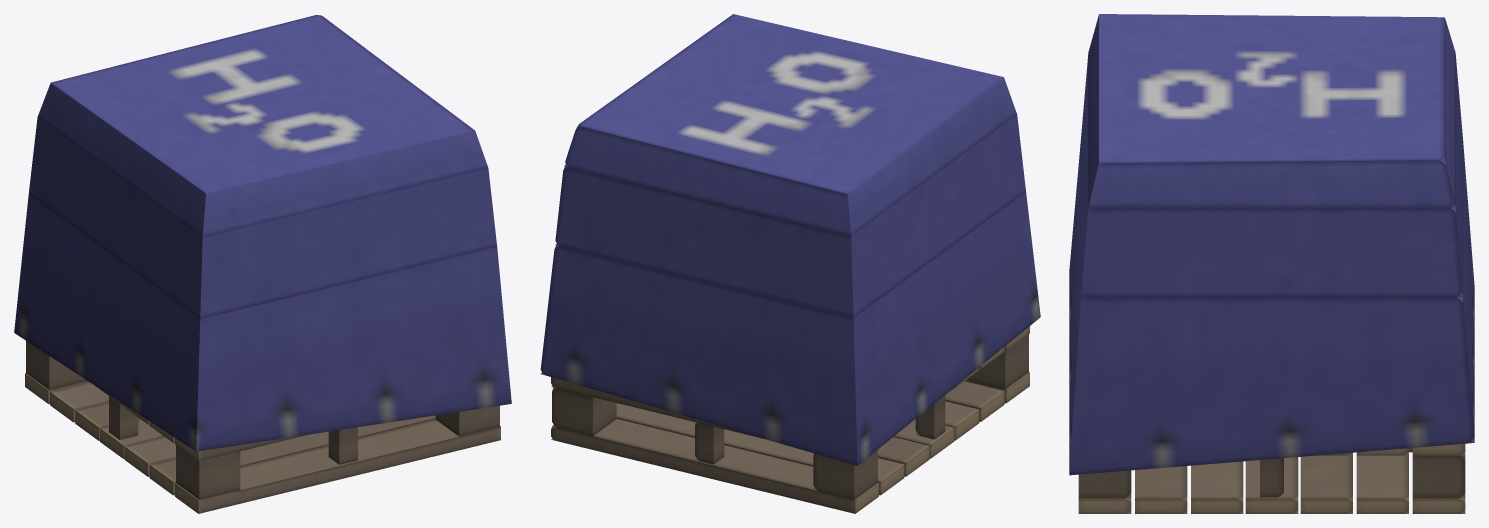
File: water_pallet_tarp.obj
3 renders of one model, left to right at view 1: azimuth 30°, elevation 25°; view 2: azimuth 150°, elevation 25°; view 3: azimuth 270°, elevation 25°, orthographic. The views are drawn at different scales.
Visible parts, largest first — view 1: yourclassnameModel26, yourclassnameModel27, yourclassnameModel25, yourclassnameModel21, yourclassnameModel20, yourclassnameModel5, yourclassnameModel2, yourclassnameModel11, yourclassnameModel4, yourclassnameModel19, yourclassnameModel9, yourclassnameModel6 (+3 smaller); view 2: yourclassnameModel26, yourclassnameModel27, yourclassnameModel25, yourclassnameModel0, yourclassnameModel11, yourclassnameModel3, yourclassnameModel2, yourclassnameModel5, yourclassnameModel20, yourclassnameModel15, yourclassnameModel1, yourclassnameModel7 (+3 smaller); view 3: yourclassnameModel27, yourclassnameModel26, yourclassnameModel25, yourclassnameModel11, yourclassnameModel15, yourclassnameModel19, yourclassnameModel20, yourclassnameModel3, yourclassnameModel13, yourclassnameModel4, yourclassnameModel8, yourclassnameModel0 (+2 smaller).
Part boxes in pixels (box(x1,y1,x2,y2)): yourclassnameModel26: box(14, 194, 511, 451); yourclassnameModel27: box(37, 15, 488, 237); yourclassnameModel25: box(29, 117, 496, 319); yourclassnameModel21: box(175, 419, 500, 513); yourclassnameModel20: box(149, 415, 435, 495); yourclassnameModel5: box(176, 445, 240, 499); yourclassnameModel2: box(26, 341, 87, 390); yourclassnameModel11: box(50, 382, 108, 422); yourclassnameModel4: box(435, 405, 499, 436); yourclassnameModel19: box(124, 436, 175, 476); yourclassnameModel9: box(328, 427, 357, 464); yourclassnameModel6: box(109, 396, 138, 439); yourclassnameModel26: box(540, 192, 1040, 465); yourclassnameModel27: box(564, 14, 1016, 235); yourclassnameModel25: box(555, 115, 1025, 317); yourclassnameModel0: box(551, 419, 878, 513); yourclassnameModel11: box(616, 403, 904, 495); yourclassnameModel3: box(552, 387, 616, 436); yourclassnameModel2: box(813, 449, 877, 499); yourclassnameModel5: box(967, 334, 1028, 389); yourclassnameModel20: box(945, 381, 1004, 421); yourclassnameModel15: box(878, 437, 929, 476); yourclassnameModel1: box(551, 377, 762, 438); yourclassnameModel7: box(695, 422, 724, 464); yourclassnameModel27: box(1088, 14, 1455, 207); yourclassnameModel26: box(1069, 136, 1474, 475); yourclassnameModel25: box(1081, 55, 1462, 297); yourclassnameModel11: box(1356, 455, 1408, 513); yourclassnameModel15: box(1300, 455, 1352, 513); yourclassnameModel19: box(1191, 461, 1243, 513); yourclassnameModel20: box(1135, 466, 1187, 513); yourclassnameModel3: box(1412, 455, 1465, 498); yourclassnameModel13: box(1245, 457, 1298, 513); yourclassnameModel4: box(1078, 470, 1131, 498); yourclassnameModel8: box(1260, 458, 1283, 497); yourclassnameModel0: box(1412, 493, 1465, 513).
Size of the model in its own units: 1.06 by 0.9969 by 1.06.
Materials: 1 (1 with a texture image).
